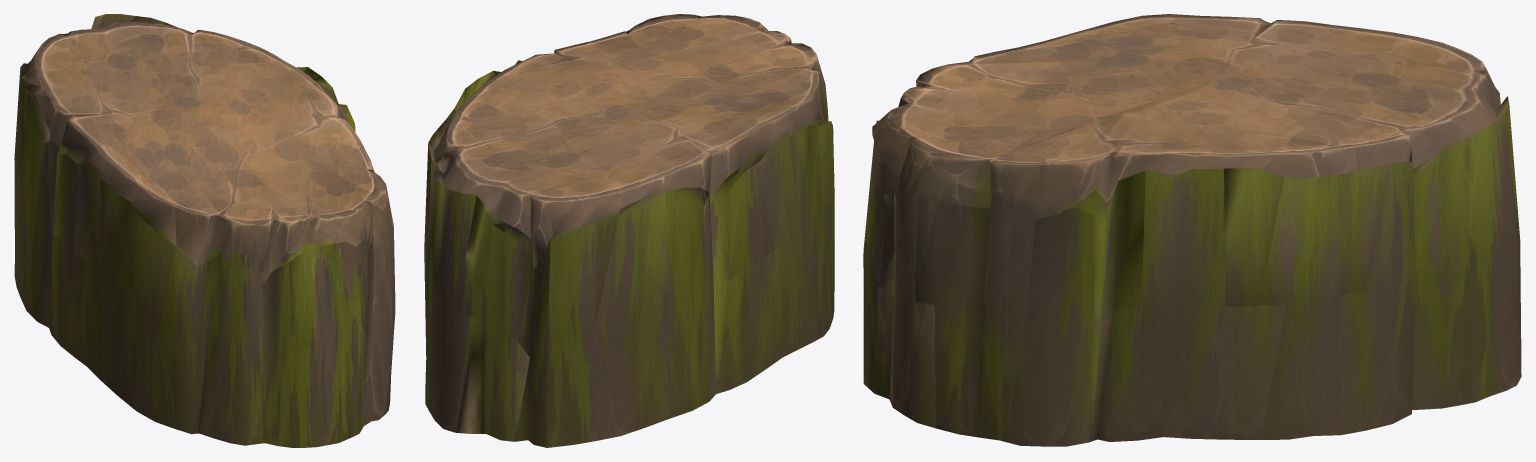
The model's file is vault-floor.glb.
3 views of the same model, side by side, from view 1: azimuth 30°, elevation 25°; view 2: azimuth 150°, elevation 25°; view 3: azimuth 270°, elevation 25° (orthographic). The views are drawn at different scales.
Visible parts, largest first — view 1: Vault_floor_LOD0; view 2: Vault_floor_LOD0; view 3: Vault_floor_LOD0.
Part boxes in pixels (left/top/right/bottom): Vault_floor_LOD0: left=14, top=14, right=395, bottom=447; Vault_floor_LOD0: left=424, top=14, right=834, bottom=447; Vault_floor_LOD0: left=863, top=14, right=1521, bottom=446.
Size of what is drawn, in the model's own units: 30 by 25.82 by 52.
1 material, 1 textured.
